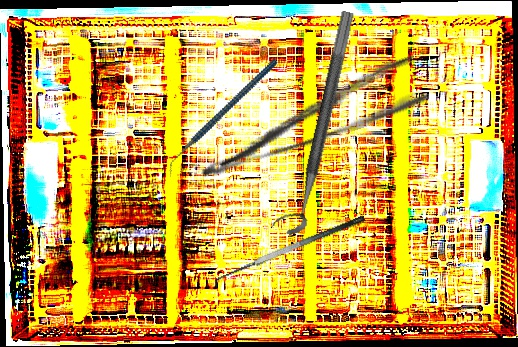Chopper: (143, 58, 302, 177)
Dressing Forceps: (186, 53, 431, 183)
Fixation Ring: (270, 6, 356, 238)
Spatula Surgical: (210, 214, 371, 293)
